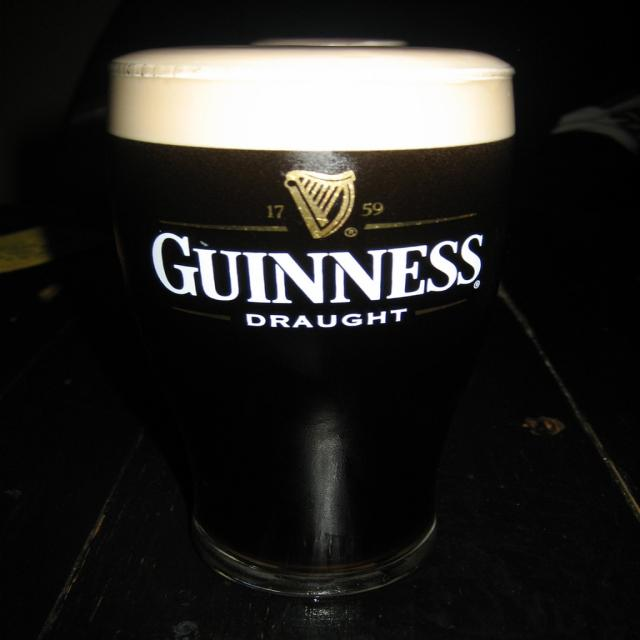guiness: (150, 167, 489, 308)
